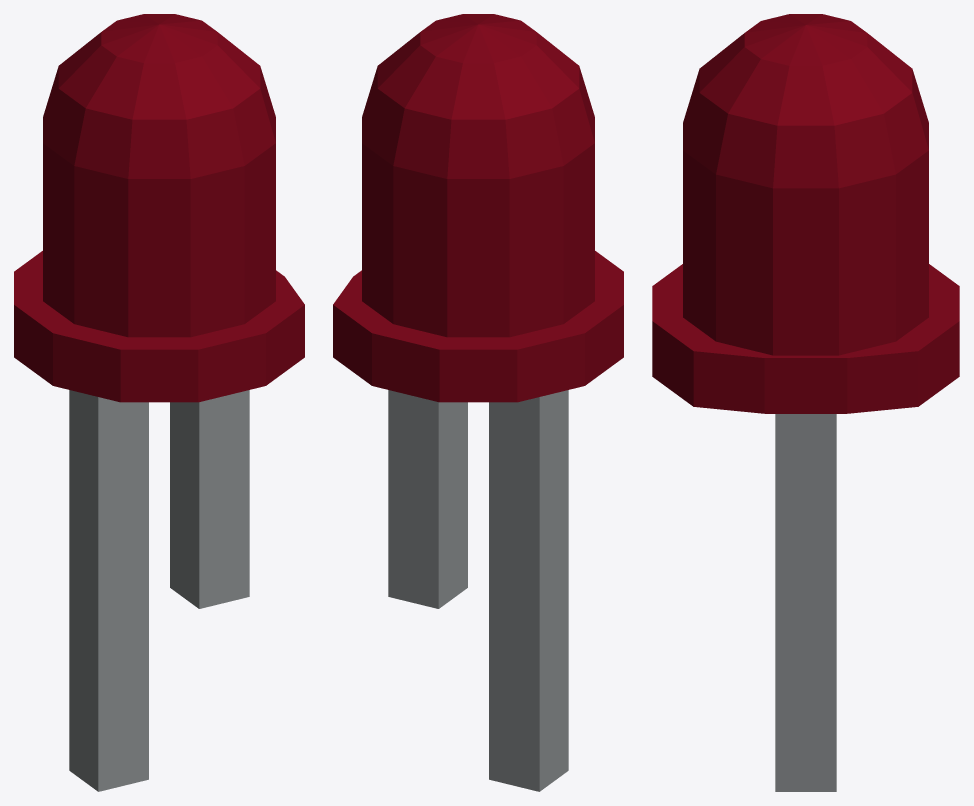
Rendered from LED_off.obj.
3 renders of one model, left to right at view 1: azimuth 30°, elevation 25°; view 2: azimuth 150°, elevation 25°; view 3: azimuth 270°, elevation 25°, orthographic. The views are drawn at different scales.
Visible parts, largest first — view 1: mesh, mid, top, bot; view 2: mesh, mid, top, bot; view 3: mid, top, mesh, bot.
Part boxes in pixels (bbox=[...]): mesh: bbox=[69, 390, 249, 791]; mid: bbox=[43, 143, 275, 337]; top: bbox=[43, 14, 275, 178]; bot: bbox=[14, 251, 304, 402]; mesh: bbox=[388, 390, 568, 791]; mid: bbox=[362, 143, 594, 337]; top: bbox=[362, 14, 594, 178]; bot: bbox=[333, 251, 623, 402]; mid: bbox=[683, 150, 928, 355]; top: bbox=[683, 14, 928, 188]; mesh: bbox=[775, 414, 836, 791]; bot: bbox=[652, 264, 959, 413].
Size of the model in its own units: 0.1437 by 0.4375 by 0.1562.
Materials: 1 (1 with a texture image).
